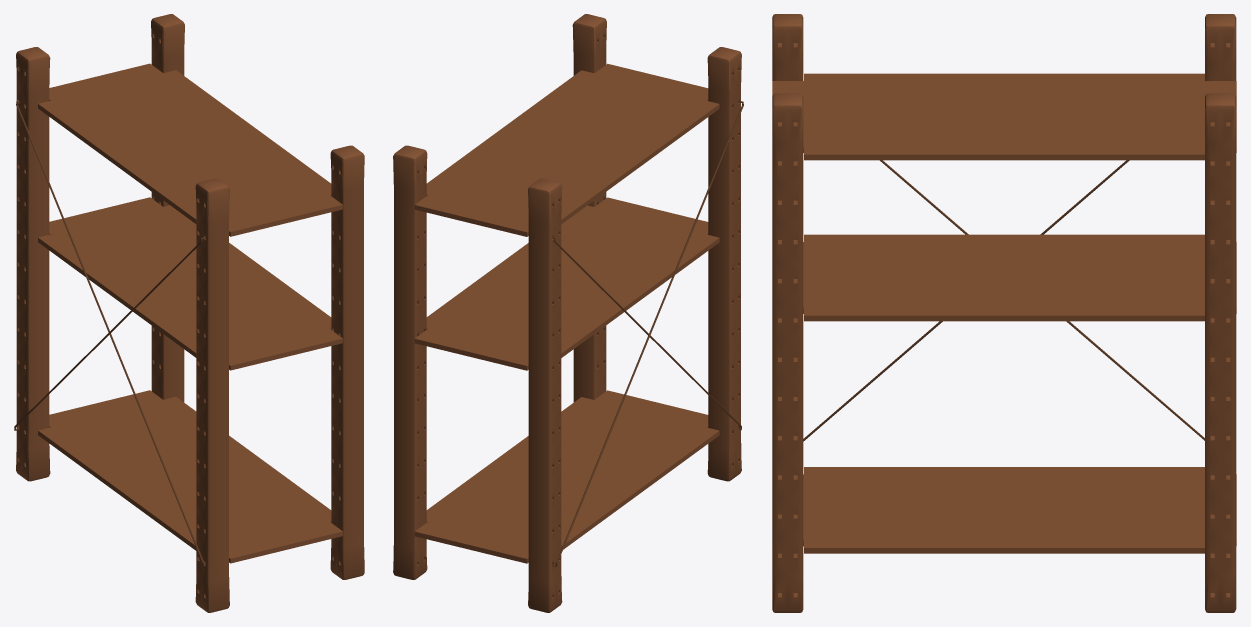
The model's file is Shelf_04a.glb.
3 views of the same model, side by side, from view 1: azimuth 30°, elevation 25°; view 2: azimuth 150°, elevation 25°; view 3: azimuth 270°, elevation 25° (orthographic). The views are drawn at different scales.
Visible parts, largest first — view 1: Mesh_Shelf_04a; view 2: Mesh_Shelf_04a; view 3: Mesh_Shelf_04a.
Part boxes in pixels (box(x1,y1,x2,y2)): Mesh_Shelf_04a: box(14, 14, 364, 612); Mesh_Shelf_04a: box(393, 14, 743, 612); Mesh_Shelf_04a: box(772, 14, 1236, 612).
Size of the model in its own units: 0.7192 by 1.8 by 1.49.
1 material, 1 textured.
